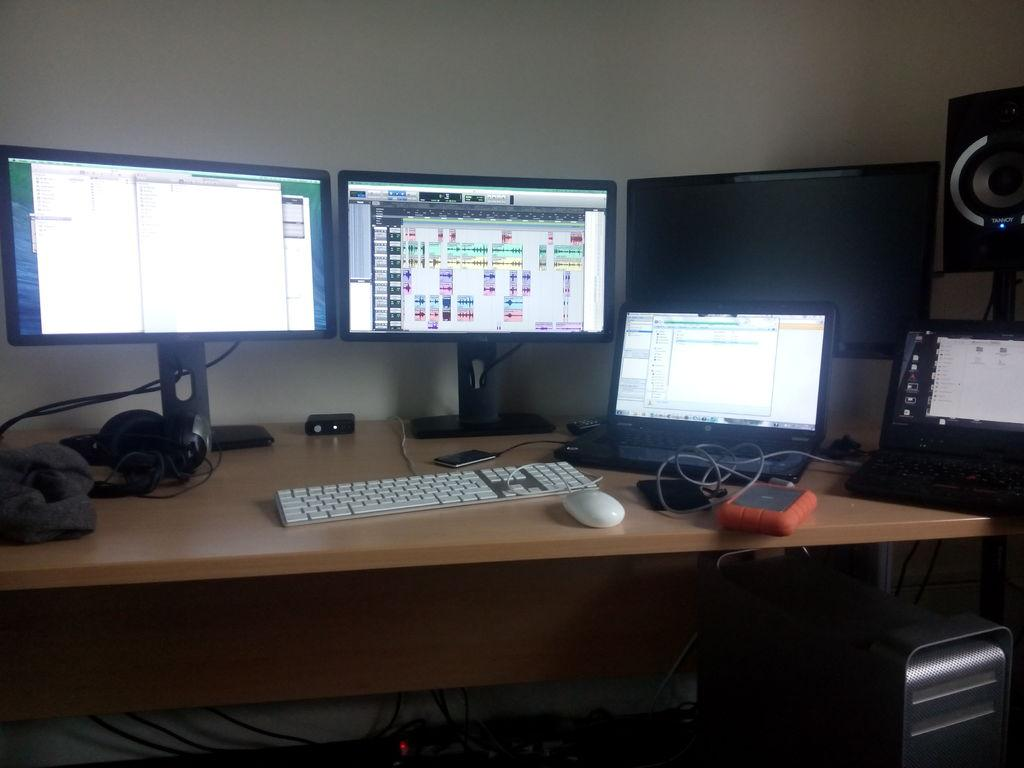Computer-keyboard: (277, 458, 596, 525), (584, 419, 796, 463), (867, 451, 1022, 495)
Computer-monitor: (0, 140, 349, 459), (627, 148, 943, 459), (337, 166, 625, 442)
